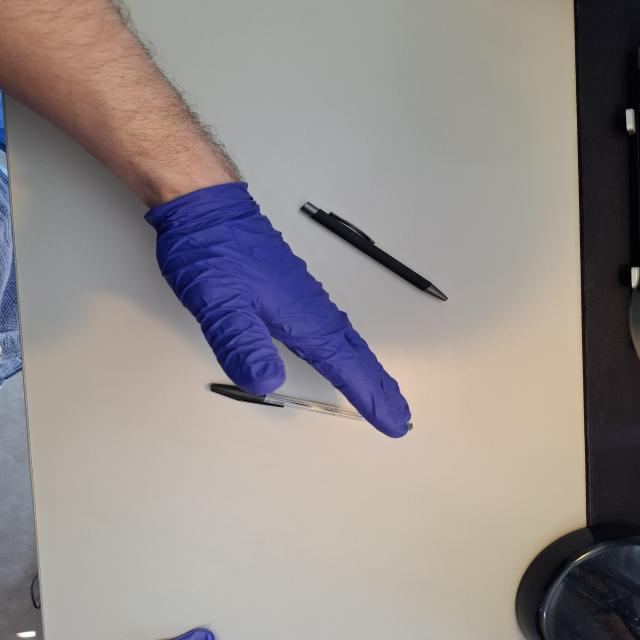glove_on: (142, 185, 412, 440)
